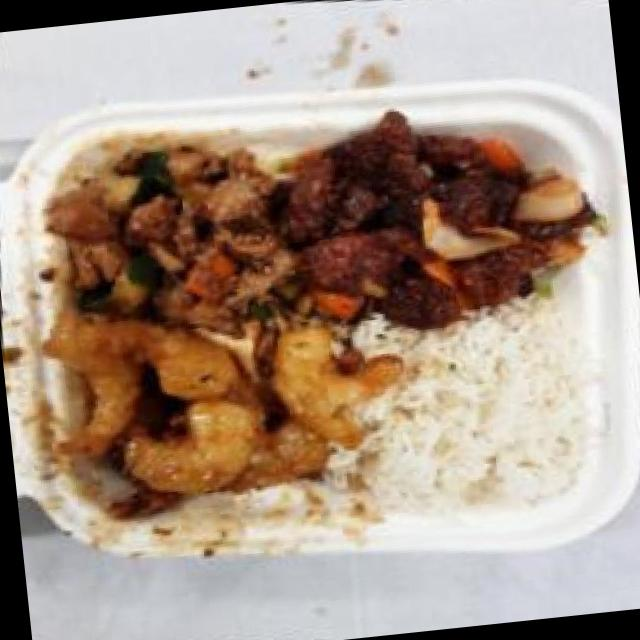Beijing Beef: (261, 86, 603, 341)
Honey Walnut Shrimp: (25, 280, 394, 534)
Kung Pao Chicken: (22, 116, 321, 359)
White Steamed Rice: (340, 292, 611, 534)
